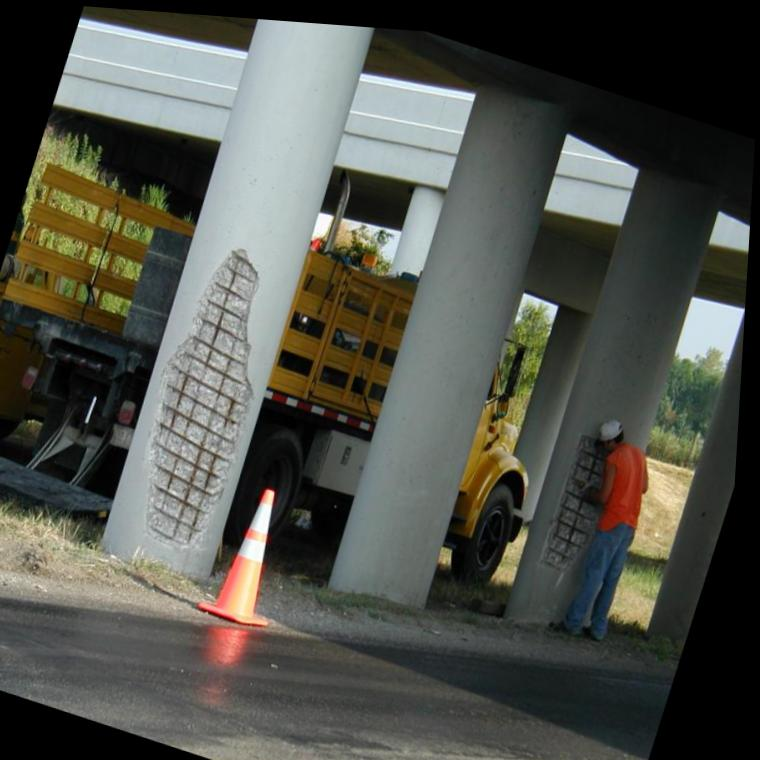damage: (151, 245, 260, 546), (549, 426, 611, 561)
